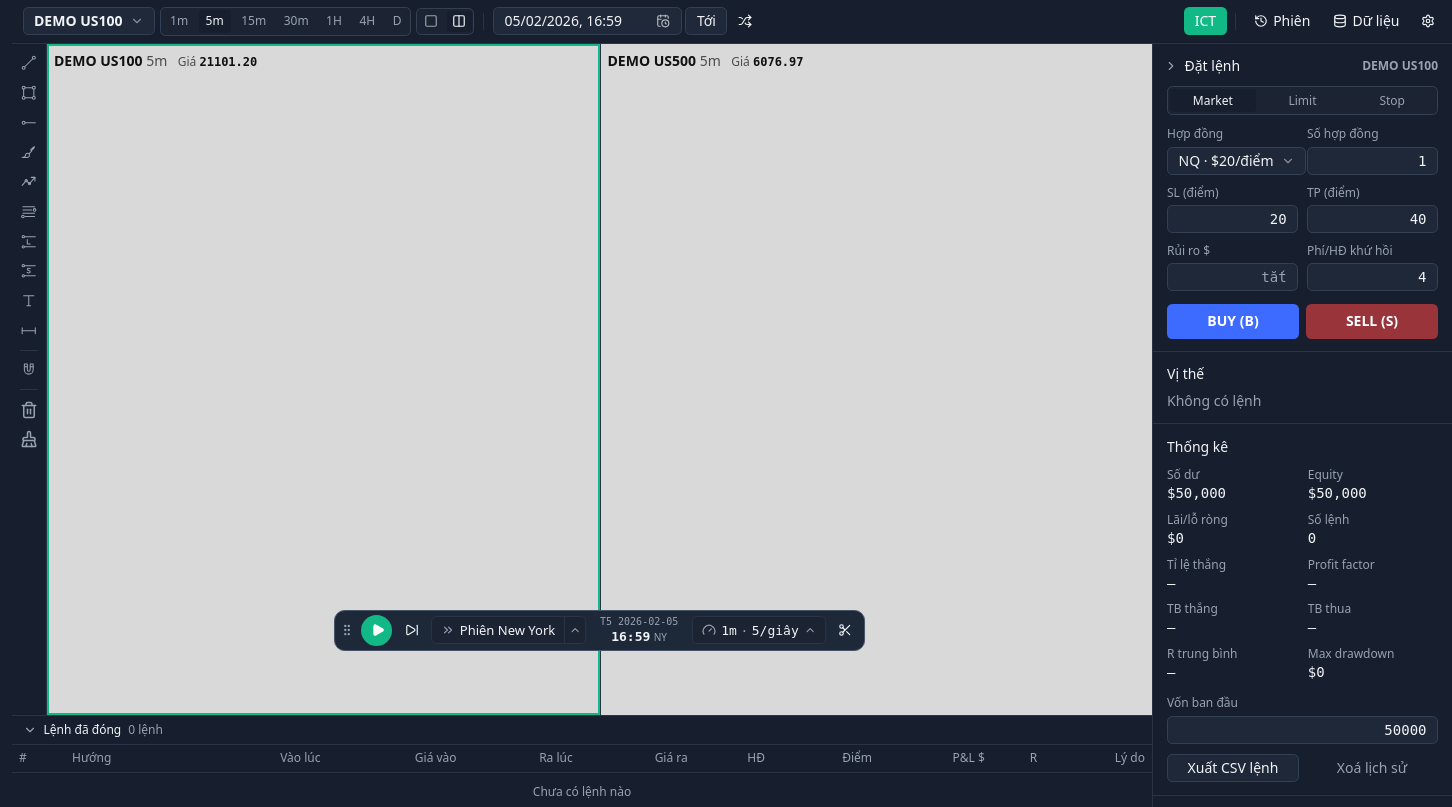
Test: the data menu lists the bar counts and offers Open CSV / Add symbol
Click the button "Dữ liệu": [1366, 21] box [1324,7,1408,35]
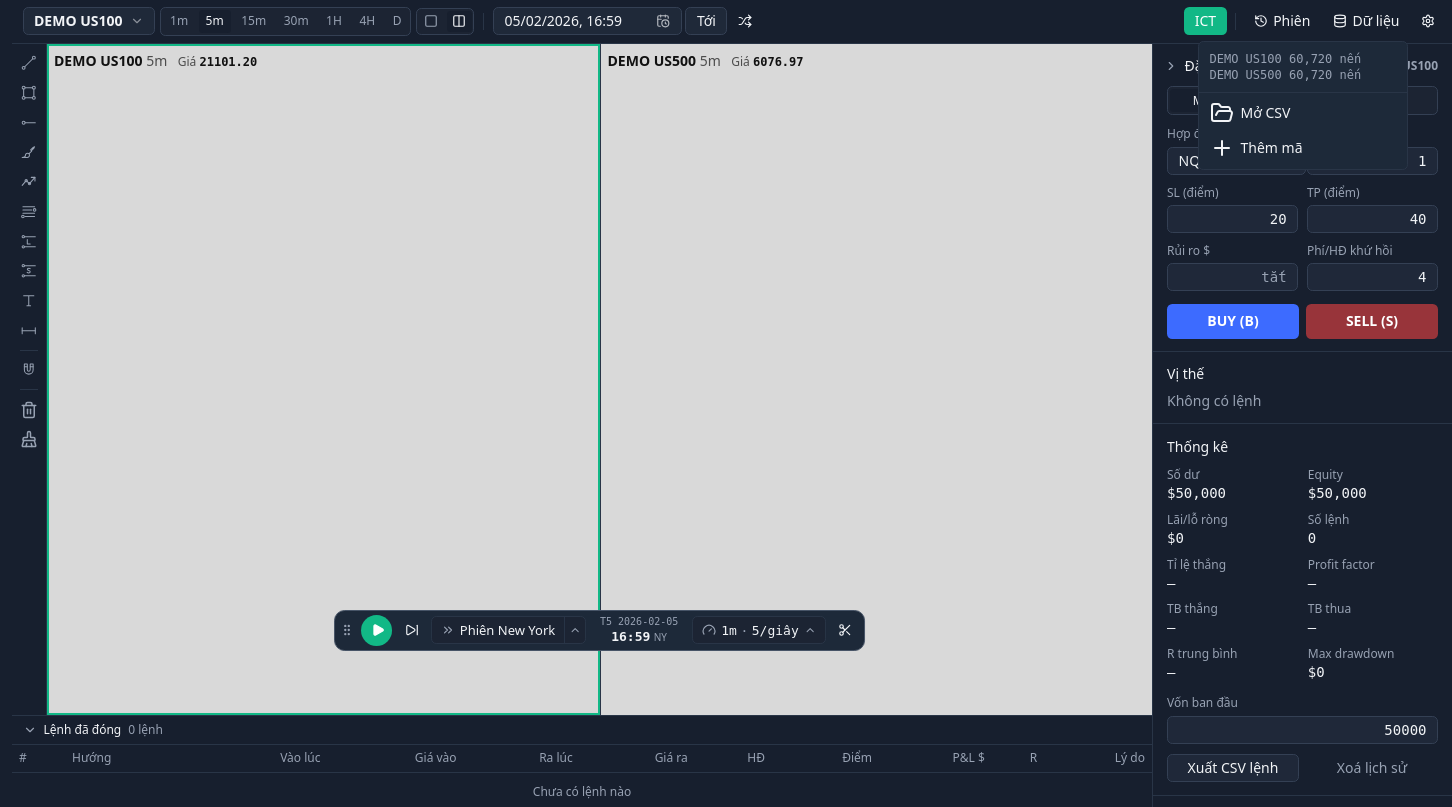
Expected: the element with test id "replay-data-info" reads "DEMO US100 60,720 nến DEMO US500 60,720 nến", [1210,52,1361,66]
Expected: the menu item "Mở CSV" is shown, [1210,101,1290,125]
Expected: the menu item "Thêm mã" is shown, [1210,136,1302,160]
